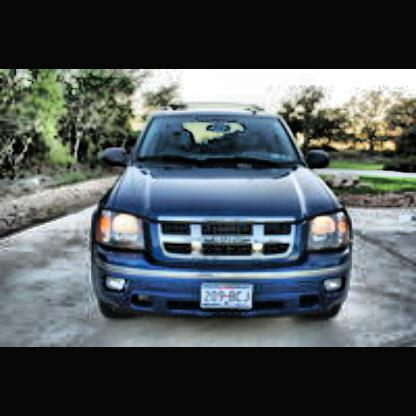Isuzu Ascender SUV 2008: (78, 112, 352, 322)
